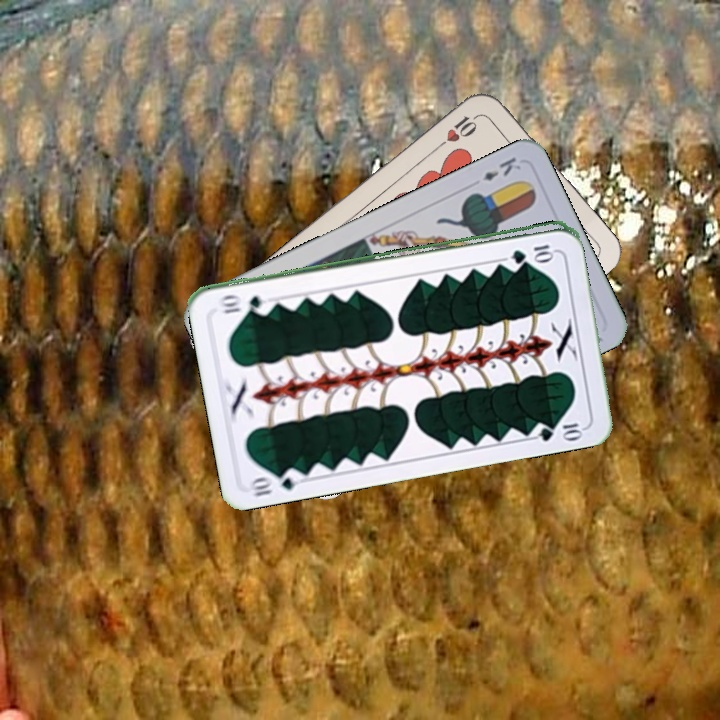EK: (479, 152, 524, 183)
G10: (246, 464, 305, 499), (507, 240, 558, 263)
H10: (432, 110, 483, 152)
